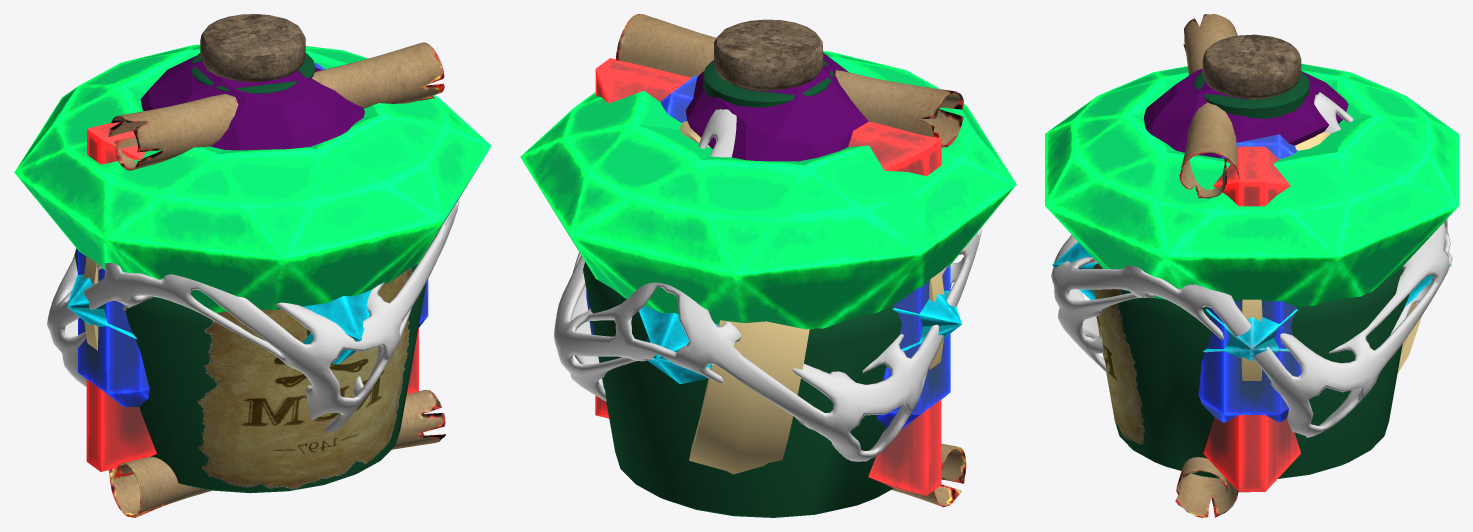
The model's file is diamond.gltf.
3 views of the same model, side by side, from view 1: azimuth 30°, elevation 25°; view 2: azimuth 150°, elevation 25°; view 3: azimuth 270°, elevation 25° (orthographic). The views are drawn at different scales.
Parts seen in each view (by area): view 1: diamond, bottle, cube, ring, square, map_1, map_3, map_2, pad, octa, coin; view 2: diamond, bottle, cube, ring, square, map_1, map_2, pad, octa, map_3; view 3: diamond, bottle, cube, square, ring, pad, map_2, octa, map_3, map_1, coin.
Boxes of the visible parts, bbox=[...] form: diamond: bbox=[14, 44, 491, 312]; bottle: bbox=[74, 14, 426, 493]; cube: bbox=[47, 200, 459, 432]; ring: bbox=[140, 56, 364, 150]; square: bbox=[86, 122, 418, 471]; map_1: bbox=[108, 72, 324, 170]; map_3: bbox=[109, 389, 445, 517]; map_2: bbox=[315, 42, 444, 108]; pad: bbox=[77, 63, 428, 406]; octa: bbox=[67, 274, 378, 364]; coin: bbox=[84, 256, 98, 350]; diamond: bbox=[520, 51, 1016, 329]; bottle: bbox=[583, 19, 951, 517]; cube: bbox=[553, 109, 982, 461]; ring: bbox=[680, 53, 868, 474]; square: bbox=[595, 58, 941, 495]; map_1: bbox=[835, 70, 963, 147]; map_2: bbox=[615, 14, 716, 77]; pad: bbox=[586, 75, 950, 428]; octa: bbox=[639, 290, 961, 383]; map_3: bbox=[891, 443, 966, 507]; diamond: bbox=[1045, 63, 1458, 306]; bottle: bbox=[1093, 34, 1409, 478]; cube: bbox=[1051, 92, 1452, 437]; square: bbox=[1203, 146, 1300, 492]; ring: bbox=[1144, 68, 1421, 373]; pad: bbox=[1198, 134, 1302, 422]; map_2: bbox=[1179, 106, 1240, 198]; octa: bbox=[1052, 242, 1451, 360]; map_3: bbox=[1175, 457, 1238, 517]; map_1: bbox=[1183, 14, 1237, 110]; coin: bbox=[1241, 299, 1262, 380].
Size of the model in its own units: 4.84 by 5.14 by 4.84.
Materials: 8 (8 with a texture image).
